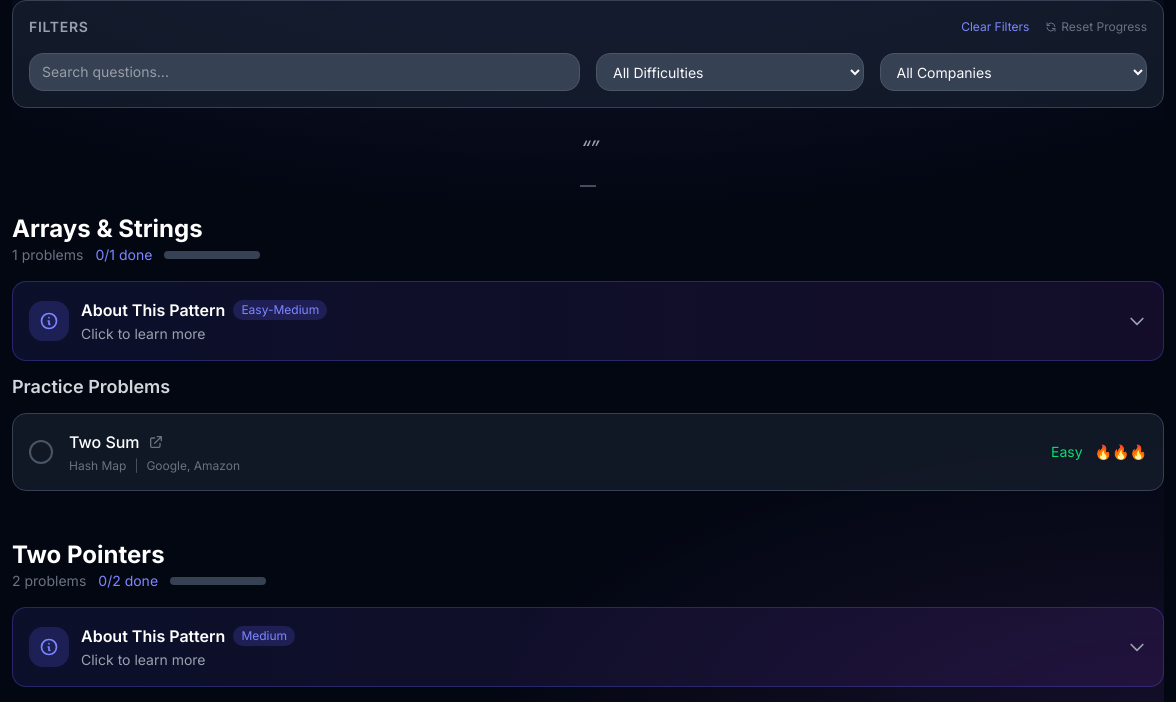
Test: UnifiedTracker › filters questions by search query
The width and height of the screenshot is (1176, 702).
Step 1. Type "3Sum" into the field with placeholder "Search questions..." → (304, 72), box x1=29 y1=53 x2=580 y2=91
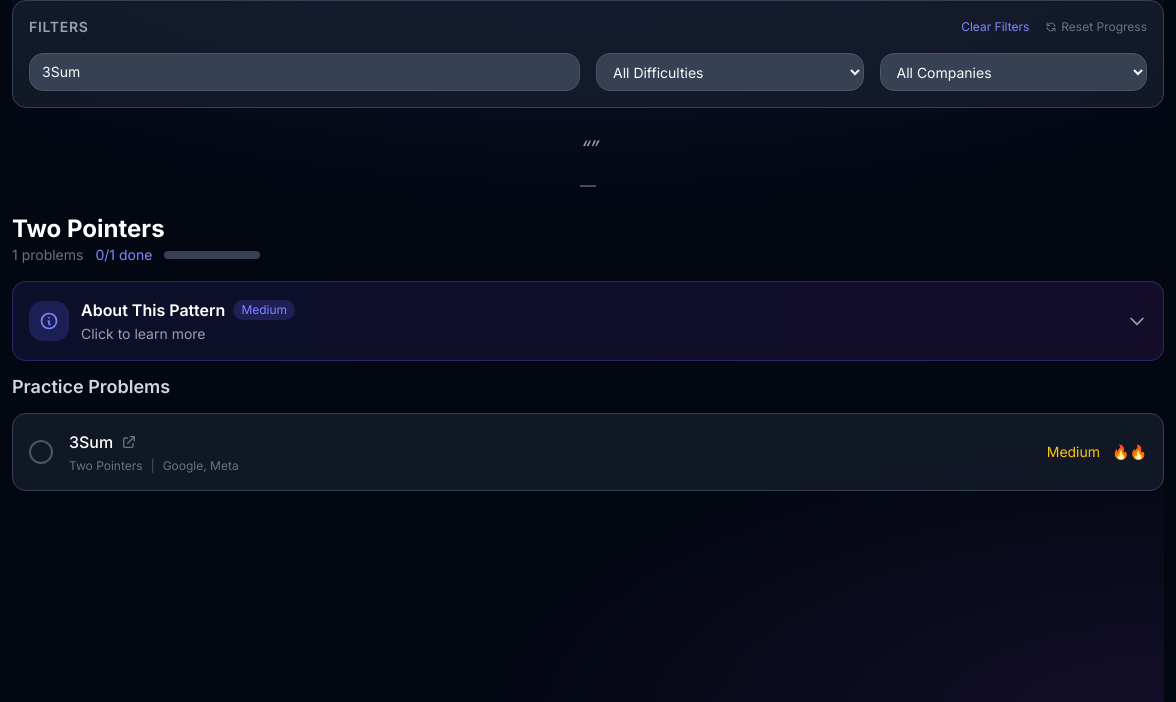
Check: the link "3Sum" is shown, box x1=69 y1=430 x2=113 y2=454
Check: the link "Two Sum" is gone
